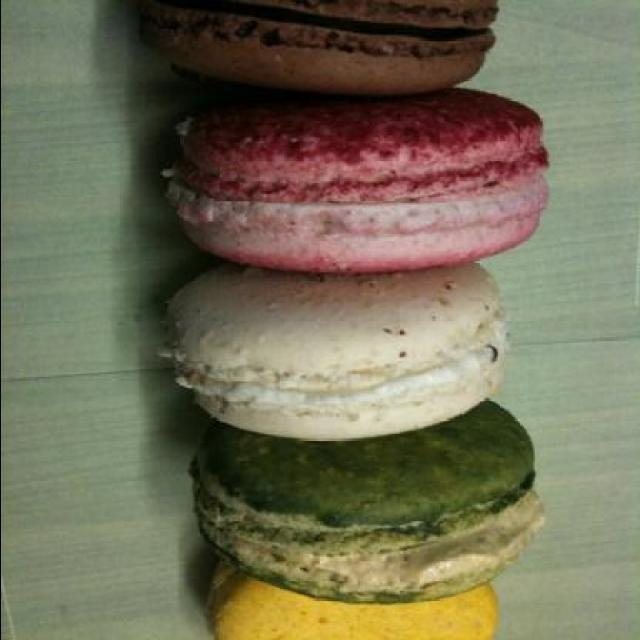Macaron: (108, 1, 562, 639)
